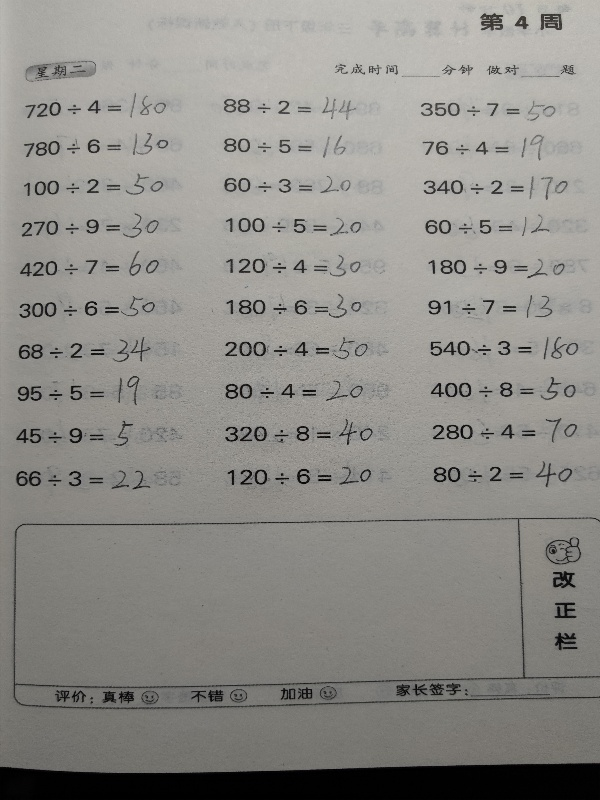equation: (222, 416, 377, 449), (222, 89, 360, 125), (428, 373, 580, 405), (427, 333, 583, 364), (430, 458, 576, 491), (430, 414, 584, 444), (420, 131, 555, 165), (223, 290, 366, 322), (222, 334, 372, 364), (20, 128, 170, 158), (14, 331, 155, 362), (421, 170, 571, 199), (16, 252, 166, 281), (17, 211, 166, 240), (222, 251, 365, 281), (221, 129, 358, 160), (21, 89, 167, 118), (14, 372, 146, 404), (13, 417, 137, 451), (16, 292, 158, 321), (425, 291, 557, 322), (222, 377, 367, 405), (419, 93, 562, 121), (225, 463, 375, 489), (19, 174, 167, 200), (12, 467, 154, 493), (424, 255, 568, 280), (222, 214, 365, 238), (221, 172, 353, 198), (421, 215, 552, 239)
